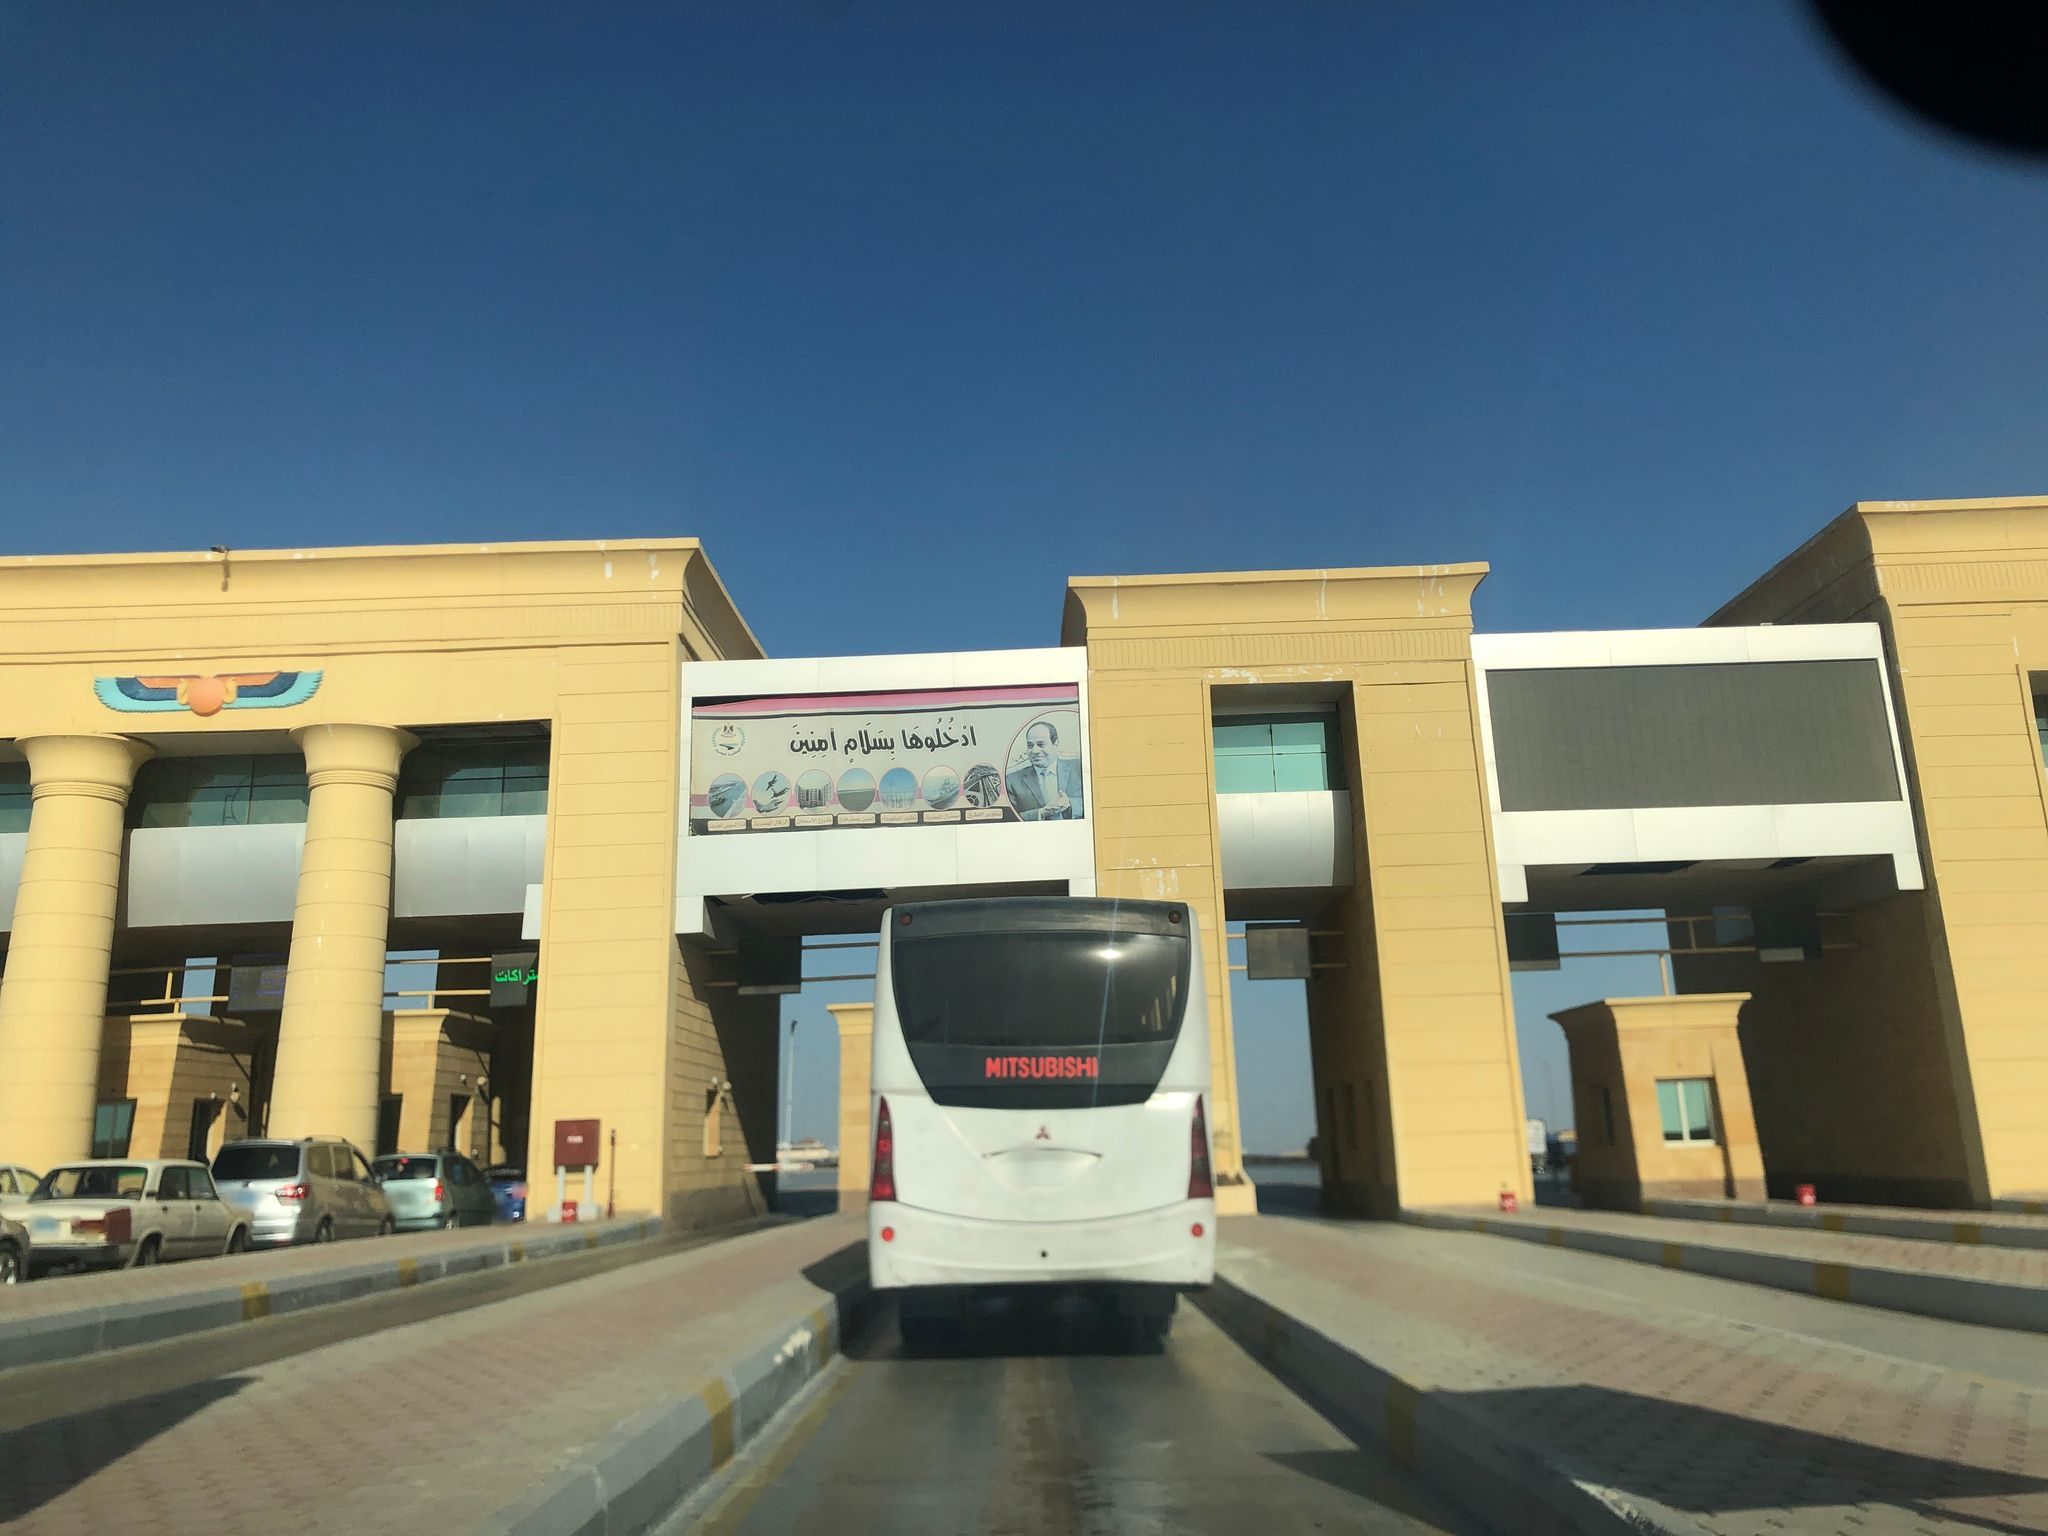bus: (863, 892, 1226, 1333)
car: (0, 1155, 252, 1263), (208, 1133, 393, 1249), (376, 1150, 500, 1225)
